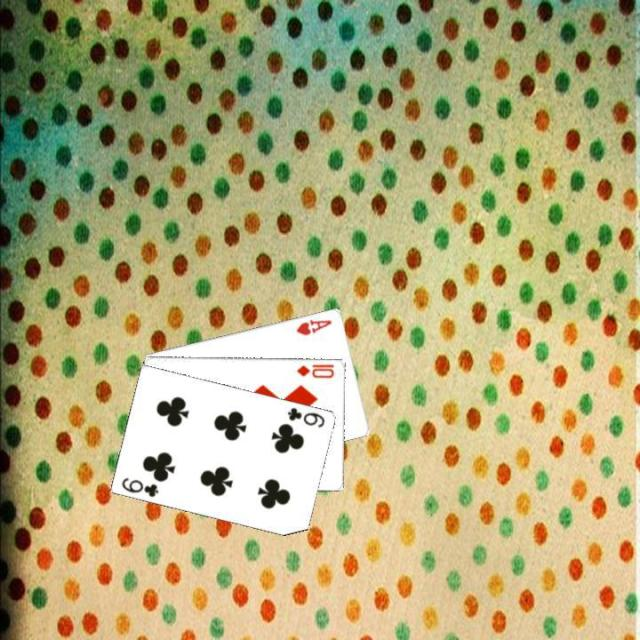10D: (293, 360, 336, 380)
6C: (284, 404, 327, 429), (118, 474, 161, 498)
AH: (292, 315, 334, 337)
